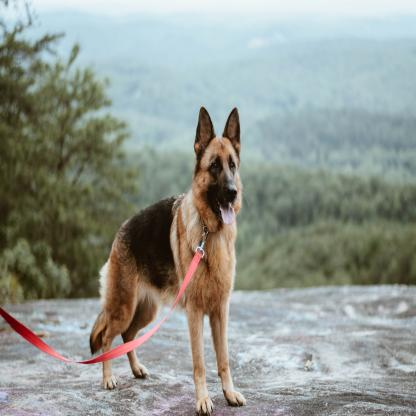german shepherd: (88, 106, 244, 408)
